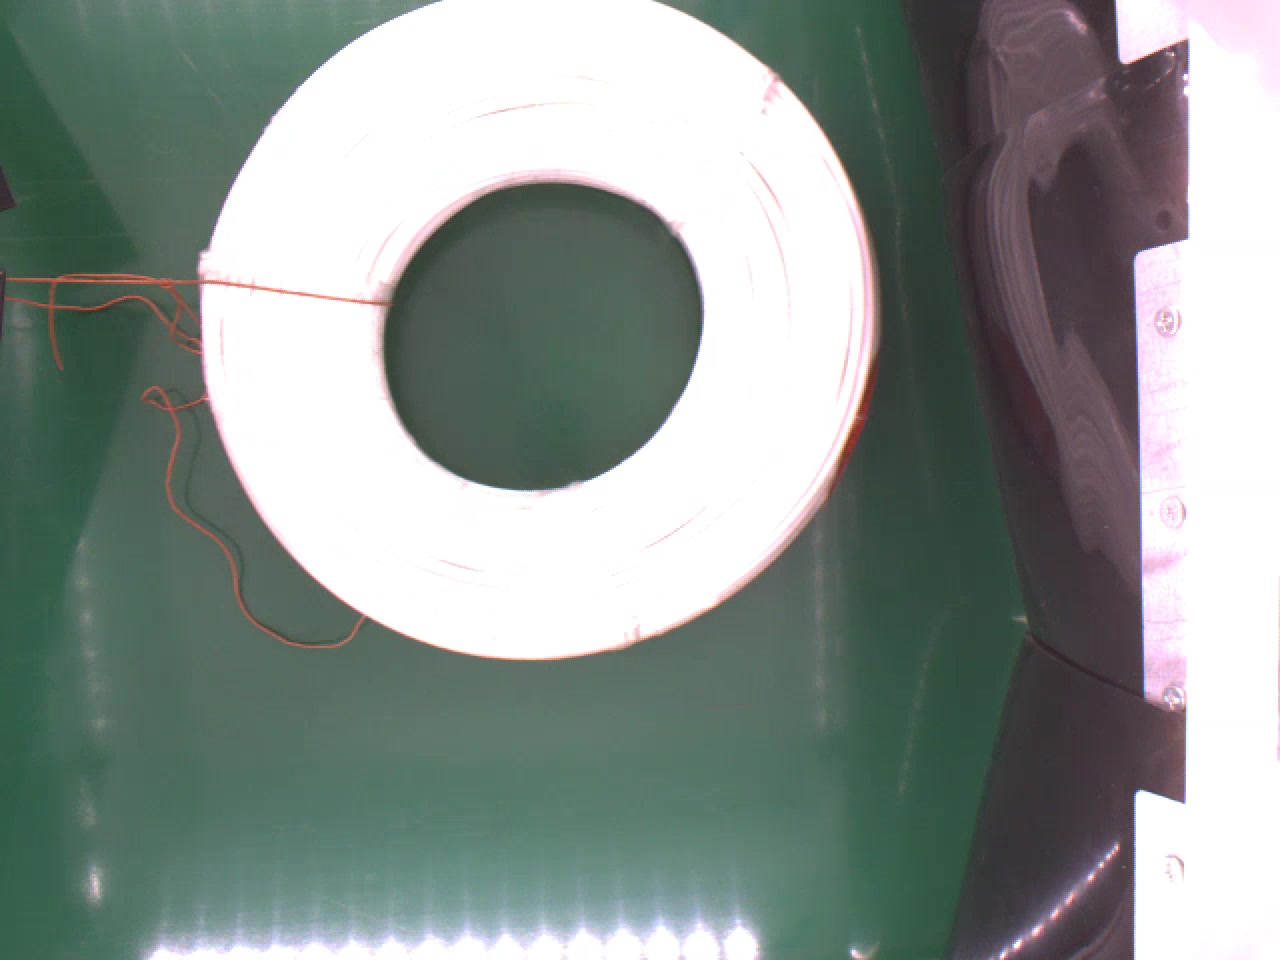white: (183, 0, 893, 667)
